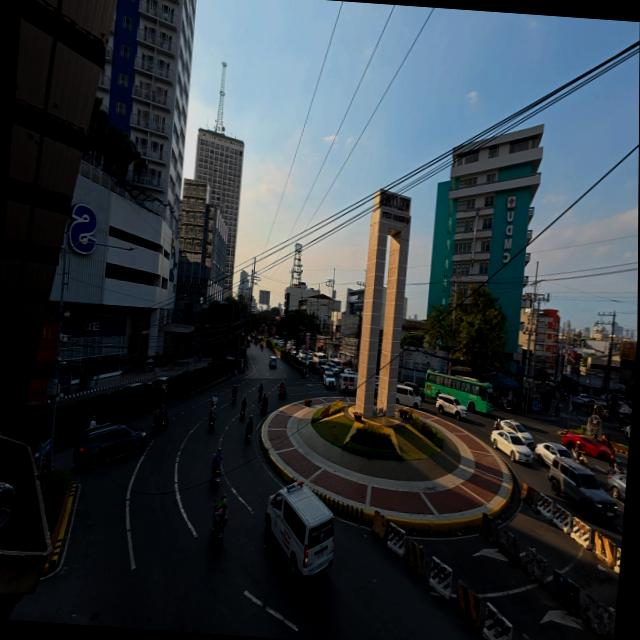bus: (424, 371, 492, 413)
car: (264, 481, 333, 579), (547, 457, 618, 521), (73, 423, 145, 469), (561, 432, 613, 461), (491, 430, 532, 463), (534, 443, 573, 466), (500, 420, 533, 447), (436, 394, 467, 420), (606, 473, 625, 499), (402, 382, 424, 400), (24, 401, 50, 414), (592, 402, 607, 420), (152, 377, 167, 392), (322, 370, 334, 388), (325, 361, 338, 376), (120, 382, 142, 390), (318, 364, 330, 378), (307, 360, 318, 373), (578, 394, 590, 403), (342, 368, 356, 375), (268, 356, 276, 368), (623, 425, 630, 438), (374, 379, 378, 397)
motorcycle: (212, 502, 226, 544), (152, 410, 167, 431), (606, 463, 624, 476), (211, 467, 221, 486), (499, 399, 513, 412), (575, 452, 587, 467), (208, 407, 215, 429), (244, 424, 252, 441), (530, 402, 541, 412), (259, 402, 267, 414), (493, 419, 501, 430), (278, 388, 286, 397), (300, 370, 307, 378), (257, 389, 262, 400), (553, 408, 559, 417), (240, 407, 244, 418), (231, 393, 235, 403)
vans: (395, 384, 421, 409), (338, 373, 356, 392), (329, 358, 347, 371), (313, 353, 327, 365)
